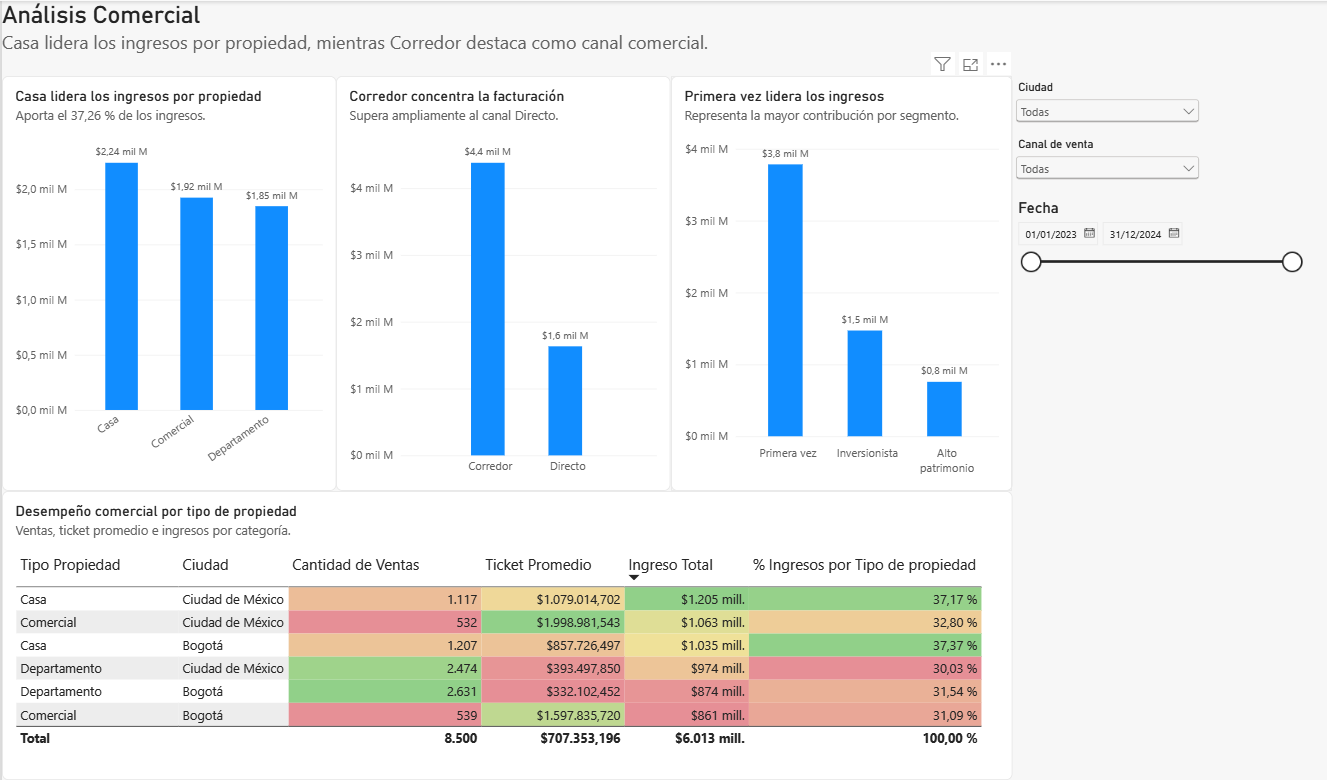

The dashboard page shown, as its layout file describes it:
{"tool":"powerbi","page":{"name":"Análisis Comercial","canvas":[1920,1080],"ordinal":1},"visuals":[{"type":"clusteredColumnChart","title":"Casa lidera los ingresos por propiedad","fields":{"Category":["hecho_ventas_propiedades.tipo_propiedad"],"Y":["hecho_ventas_propiedades.Ingreso Total"]},"box":[0,94.3,420,521.4],"z":0},{"type":"clusteredColumnChart","title":"Corredor concentra la facturación","fields":{"Category":["hecho_ventas_propiedades.canal_venta"],"Y":["hecho_ventas_propiedades.Ingreso Total"]},"box":[420,94.3,420,521.4],"z":1000},{"type":"clusteredColumnChart","title":"Primera vez lidera los ingresos","fields":{"Category":["dim_clientes.segmento_comprador"],"Y":["hecho_ventas_propiedades.Ingreso Total"]},"box":[840,94.3,428.6,521.4],"z":2000},{"type":"tableEx","title":"Desempeño comercial por tipo de propiedad","fields":{"Values":["hecho_ventas_propiedades.tipo_propiedad","hecho_ventas_propiedades.ciudad","hecho_ventas_propiedades.Cantidad de Ventas","hecho_ventas_propiedades.Ticket Promedio","hecho_ventas_propiedades.Ingreso Total","hecho_ventas_propiedades.% Ingresos por Tipo de propiedad"]},"box":[0,615.7,1268.6,362.9],"z":3000},{"type":"textbox","title":"Análisis Comercial","box":[0,0,1113.8,116.2],"z":4000},{"type":"slicer","fields":{"Values":["hecho_ventas_propiedades.ciudad"]},"box":[1268.6,100,240,72.5],"z":5000},{"type":"slicer","fields":{"Values":["hecho_ventas_propiedades.canal_venta"]},"box":[1268.6,171.4,240,76.2],"z":6000},{"type":"slicer","fields":{"Values":["Dim_Fecha.Date"]},"box":[1268.6,248.6,367.5,146.2],"z":7000}]}

Visuals, with their boxes on the page's 1920x1080 design canvas (x1, y1, x2, y2). These are canvas units, not pixel positions in the 1327x780 screenshot, which may show the page scaled, cropped or inside an application window:
"Casa lidera los ingresos por propiedad" clusteredColumnChart: box(0, 94, 420, 616)
"Corredor concentra la facturación" clusteredColumnChart: box(420, 94, 840, 616)
"Primera vez lidera los ingresos" clusteredColumnChart: box(840, 94, 1269, 616)
"Desempeño comercial por tipo de propiedad" tableEx: box(0, 616, 1269, 979)
"Análisis Comercial" textbox: box(0, 0, 1114, 116)
slicer - hecho_ventas_propiedades.ciudad: box(1269, 100, 1509, 172)
slicer - hecho_ventas_propiedades.canal_venta: box(1269, 171, 1509, 248)
slicer - Dim_Fecha.Date: box(1269, 249, 1636, 395)
